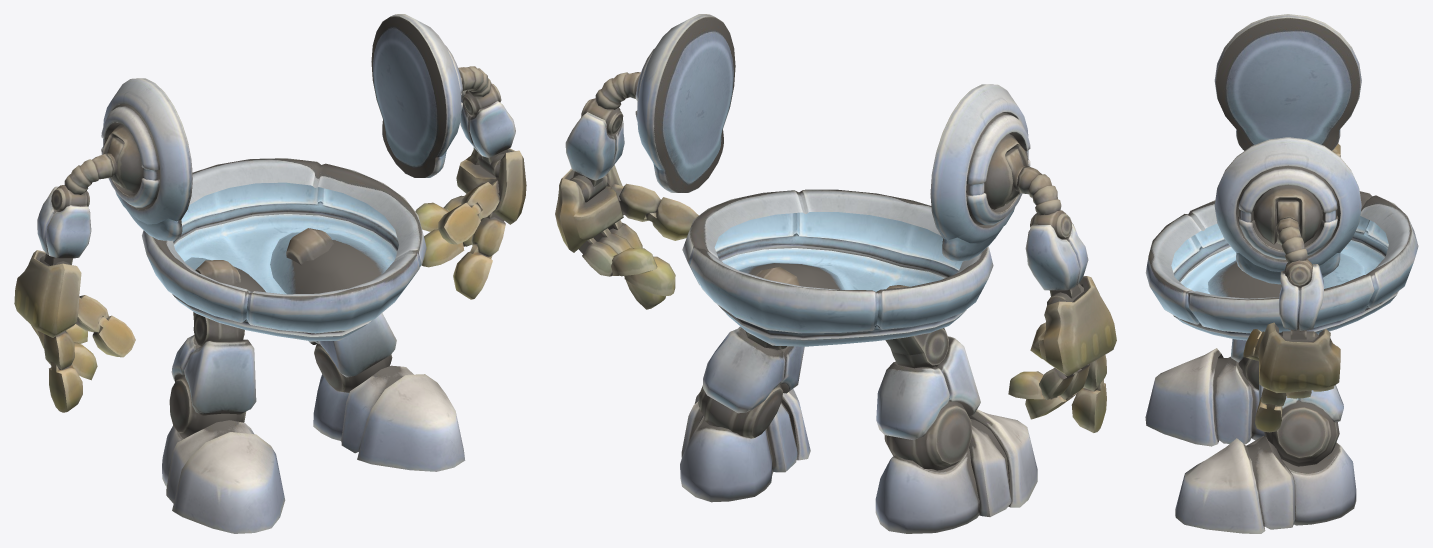
The model's file is ARM1_Exo_ZA01.glb.
3 views of the same model, side by side, from view 1: azimuth 30°, elevation 25°; view 2: azimuth 150°, elevation 25°; view 3: azimuth 270°, elevation 25° (orthographic). The views are drawn at different scales.
Parts seen in each view (by area): view 1: ARM1_Exo_ZA01; view 2: ARM1_Exo_ZA01; view 3: ARM1_Exo_ZA01.
Part boxes in pixels (x1,y1,x2,y2): ARM1_Exo_ZA01: [14, 14, 526, 533]; ARM1_Exo_ZA01: [555, 14, 1116, 533]; ARM1_Exo_ZA01: [1145, 14, 1418, 533].
Size of the model in its own units: 1.32 by 1.04 by 0.6612.
1 material, 1 textured.
